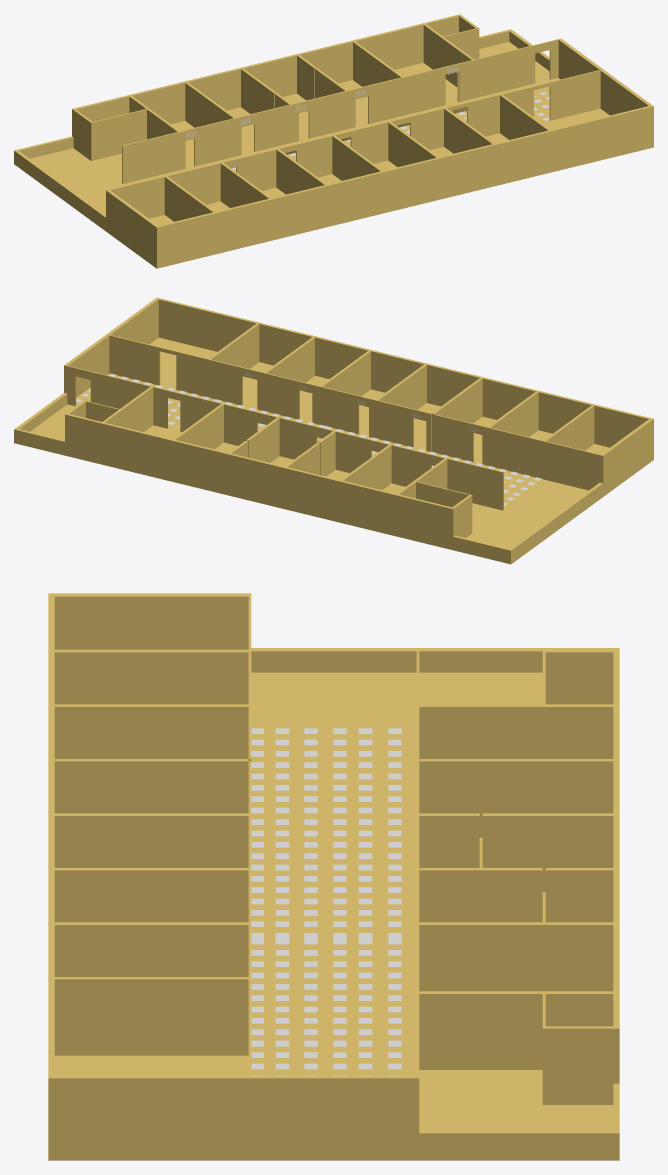
File: floor3Model.fbx
The picture shows the model from 3 angles, top to bottom: view 1: azimuth 30°, elevation 25°; view 2: azimuth 150°, elevation 25°; view 3: azimuth 270°, elevation 25°; orthographic projection. The views are drawn at different scales.
Visible parts, largest first — view 1: floor3; view 2: floor3, WhiteTiles; view 3: floor3, WhiteTiles.
Boxes of the visible parts, x1,y1,x2,y2 form: floor3: (14,14,653,268); floor3: (14,297,653,564); WhiteTiles: (76,373,541,505); floor3: (48,593,619,1160); WhiteTiles: (251,728,401,1075).
Size of the model in its own units: 5204 by 411 by 2591.
